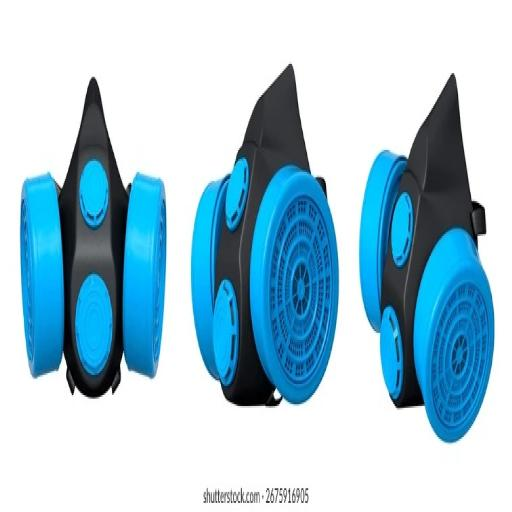mask: (349, 53, 495, 445), (186, 56, 338, 428), (8, 66, 170, 414)
